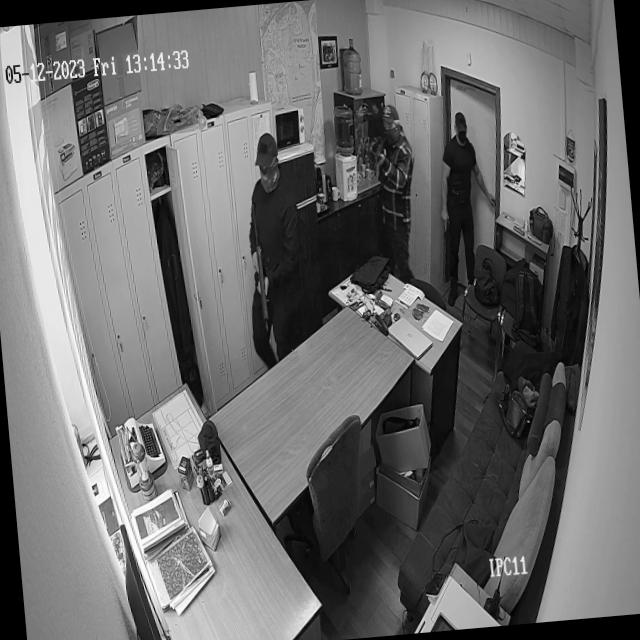gun: (248, 202, 272, 334), (371, 136, 388, 172), (442, 216, 452, 239)
person with a gun: (238, 132, 306, 352), (431, 112, 492, 286), (371, 105, 421, 273)
